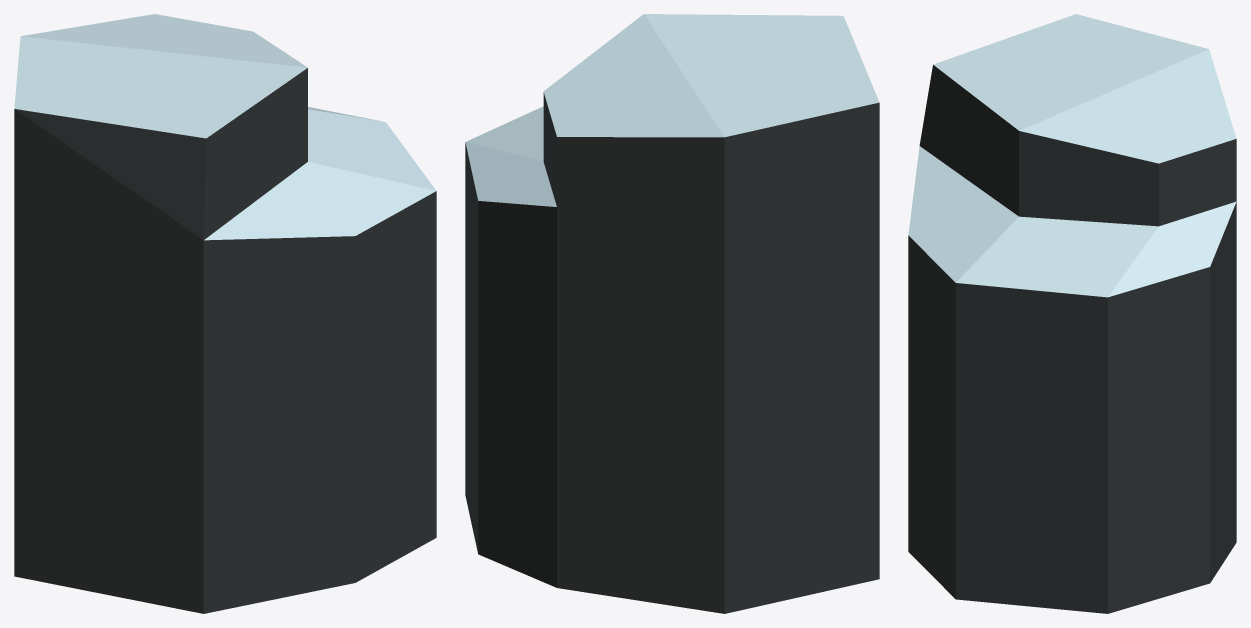
The model's file is SM_Env_Generic_Cliffs_04_Snow.fbx.
3 renders of one model, left to right at view 1: azimuth 30°, elevation 25°; view 2: azimuth 150°, elevation 25°; view 3: azimuth 270°, elevation 25°, orthographic. The views are drawn at different scales.
Visible parts, largest first — view 1: SM_Env_Generic_Cliffs_04_Snow; view 2: SM_Env_Generic_Cliffs_04_Snow; view 3: SM_Env_Generic_Cliffs_04_Snow.
Boxes of the visible parts, x1,y1,x2,y2 form: SM_Env_Generic_Cliffs_04_Snow: (14, 14, 436, 613); SM_Env_Generic_Cliffs_04_Snow: (465, 14, 879, 613); SM_Env_Generic_Cliffs_04_Snow: (908, 14, 1236, 613).
Size of the model in its own units: 58.81 by 67.59 by 47.11.
Materials: 1 (1 with a texture image).
